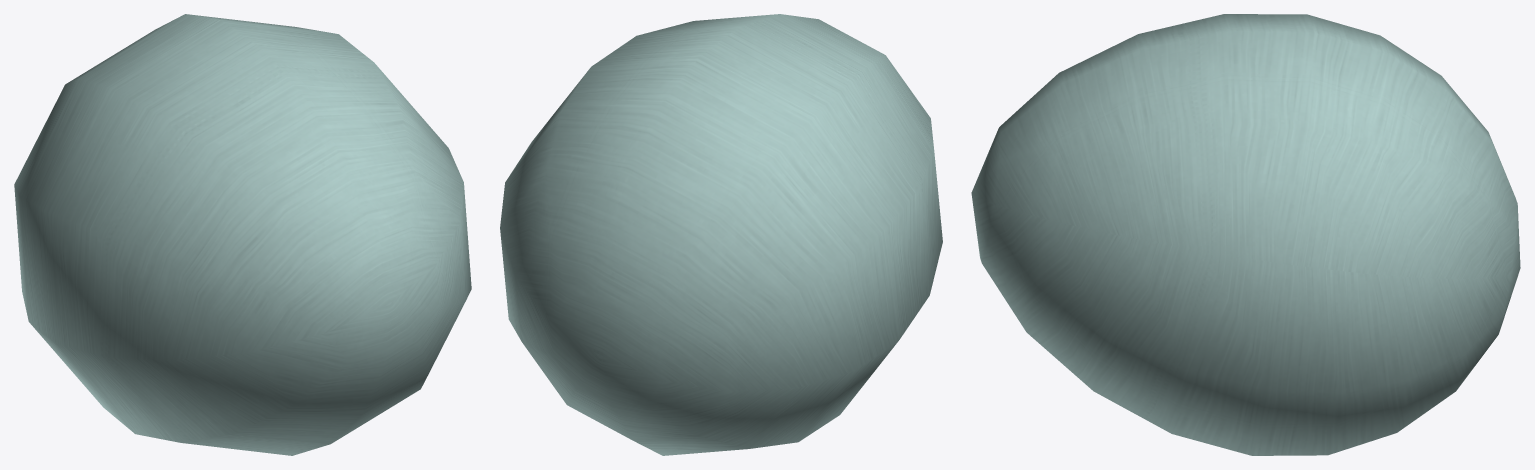
Rendered from ref_saltedegg.glb.
The picture shows the model from 3 angles, left to right: view 1: azimuth 30°, elevation 25°; view 2: azimuth 150°, elevation 25°; view 3: azimuth 270°, elevation 25°; orthographic projection. The views are drawn at different scales.
Visible parts, largest first — view 1: ref_saltedegg; view 2: ref_saltedegg; view 3: ref_saltedegg.
Part boxes in pixels (x1,y1,x2,y2): ref_saltedegg: (14,14,471,455); ref_saltedegg: (500,14,942,455); ref_saltedegg: (971,14,1520,455).
Size of the model in its own units: 0.7865 by 0.8191 by 1.
1 material, 1 textured.
